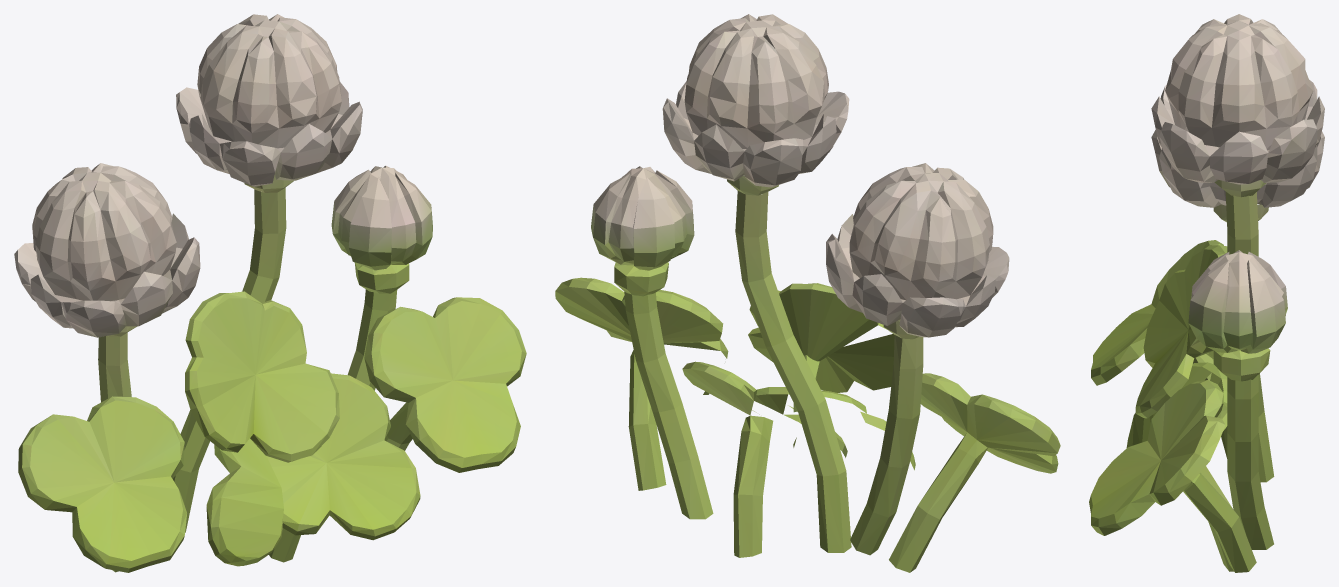
Rendered from clover.glb.
The picture shows the model from 3 angles, left to right: view 1: azimuth 30°, elevation 25°; view 2: azimuth 150°, elevation 25°; view 3: azimuth 270°, elevation 25°; orthographic projection.
Visible parts, largest first — view 1: geometry_0; view 2: geometry_0; view 3: geometry_0.
Boxes of the visible parts, x1,y1,x2,y2 form: geometry_0: [14, 14, 526, 572]; geometry_0: [555, 14, 1060, 572]; geometry_0: [1089, 14, 1324, 572].
Size of the model in its own units: 0.1436 by 0.1484 by 0.0591.
